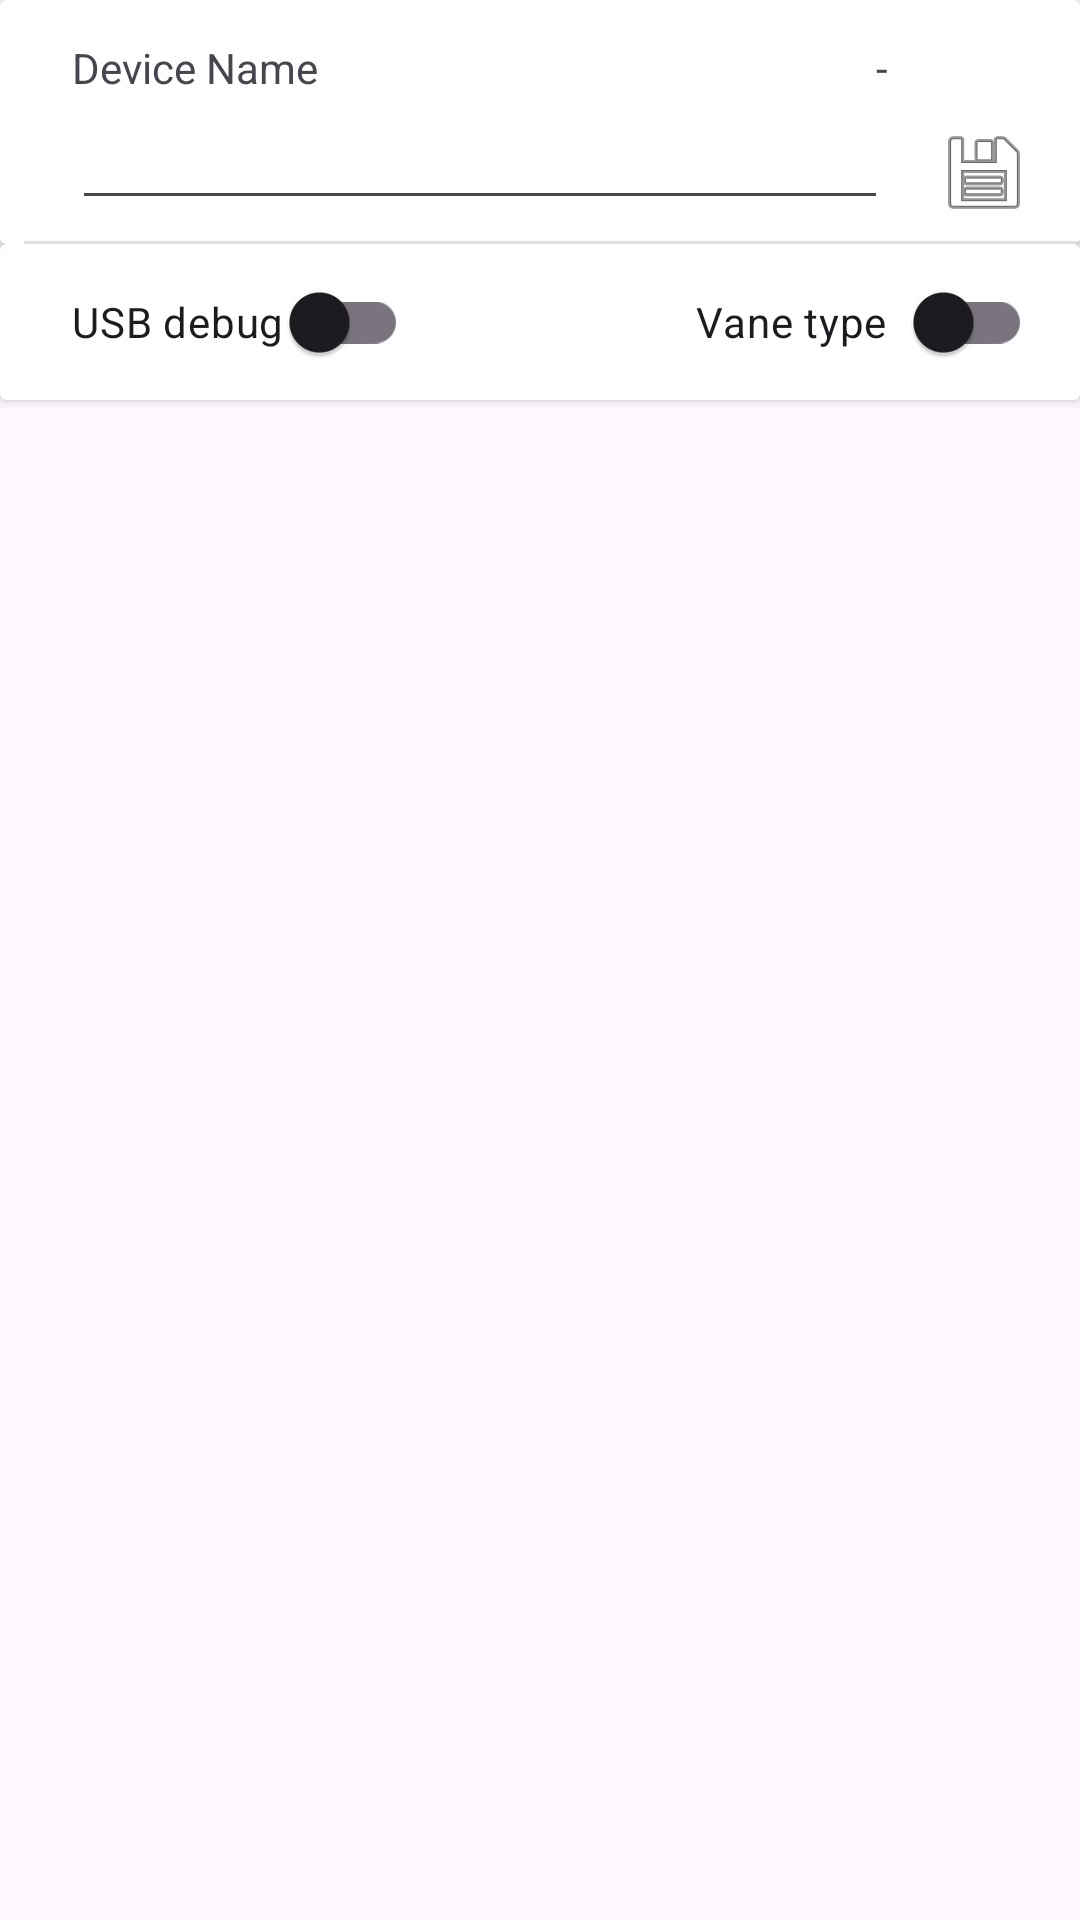

Icon click points for this 1080×1920 phone screenshot, format (x=x, y=y):
Save: (x=984, y=172)
